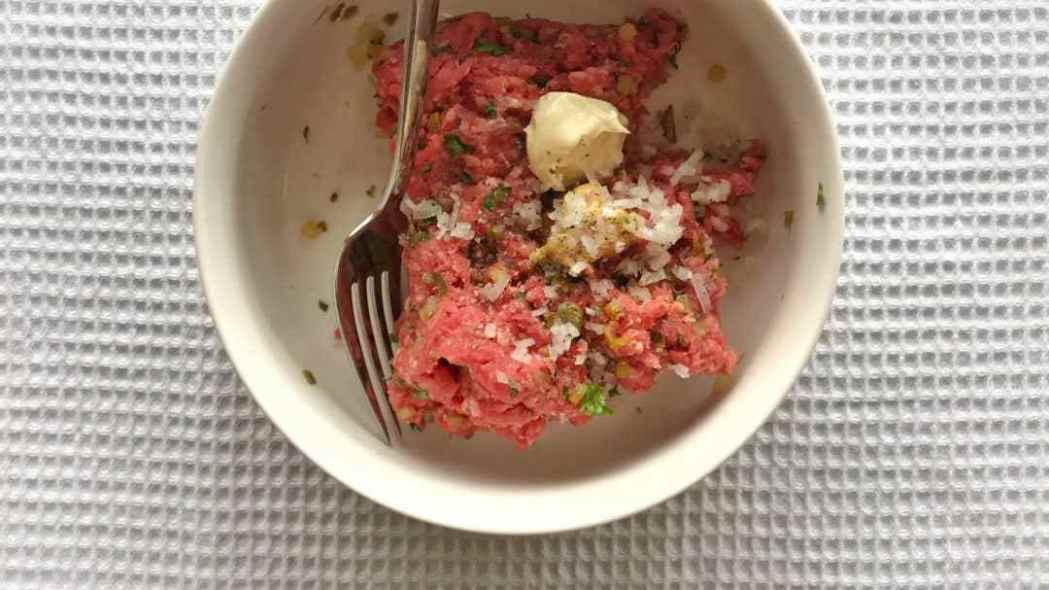ground_beef: (355, 23, 780, 430)
